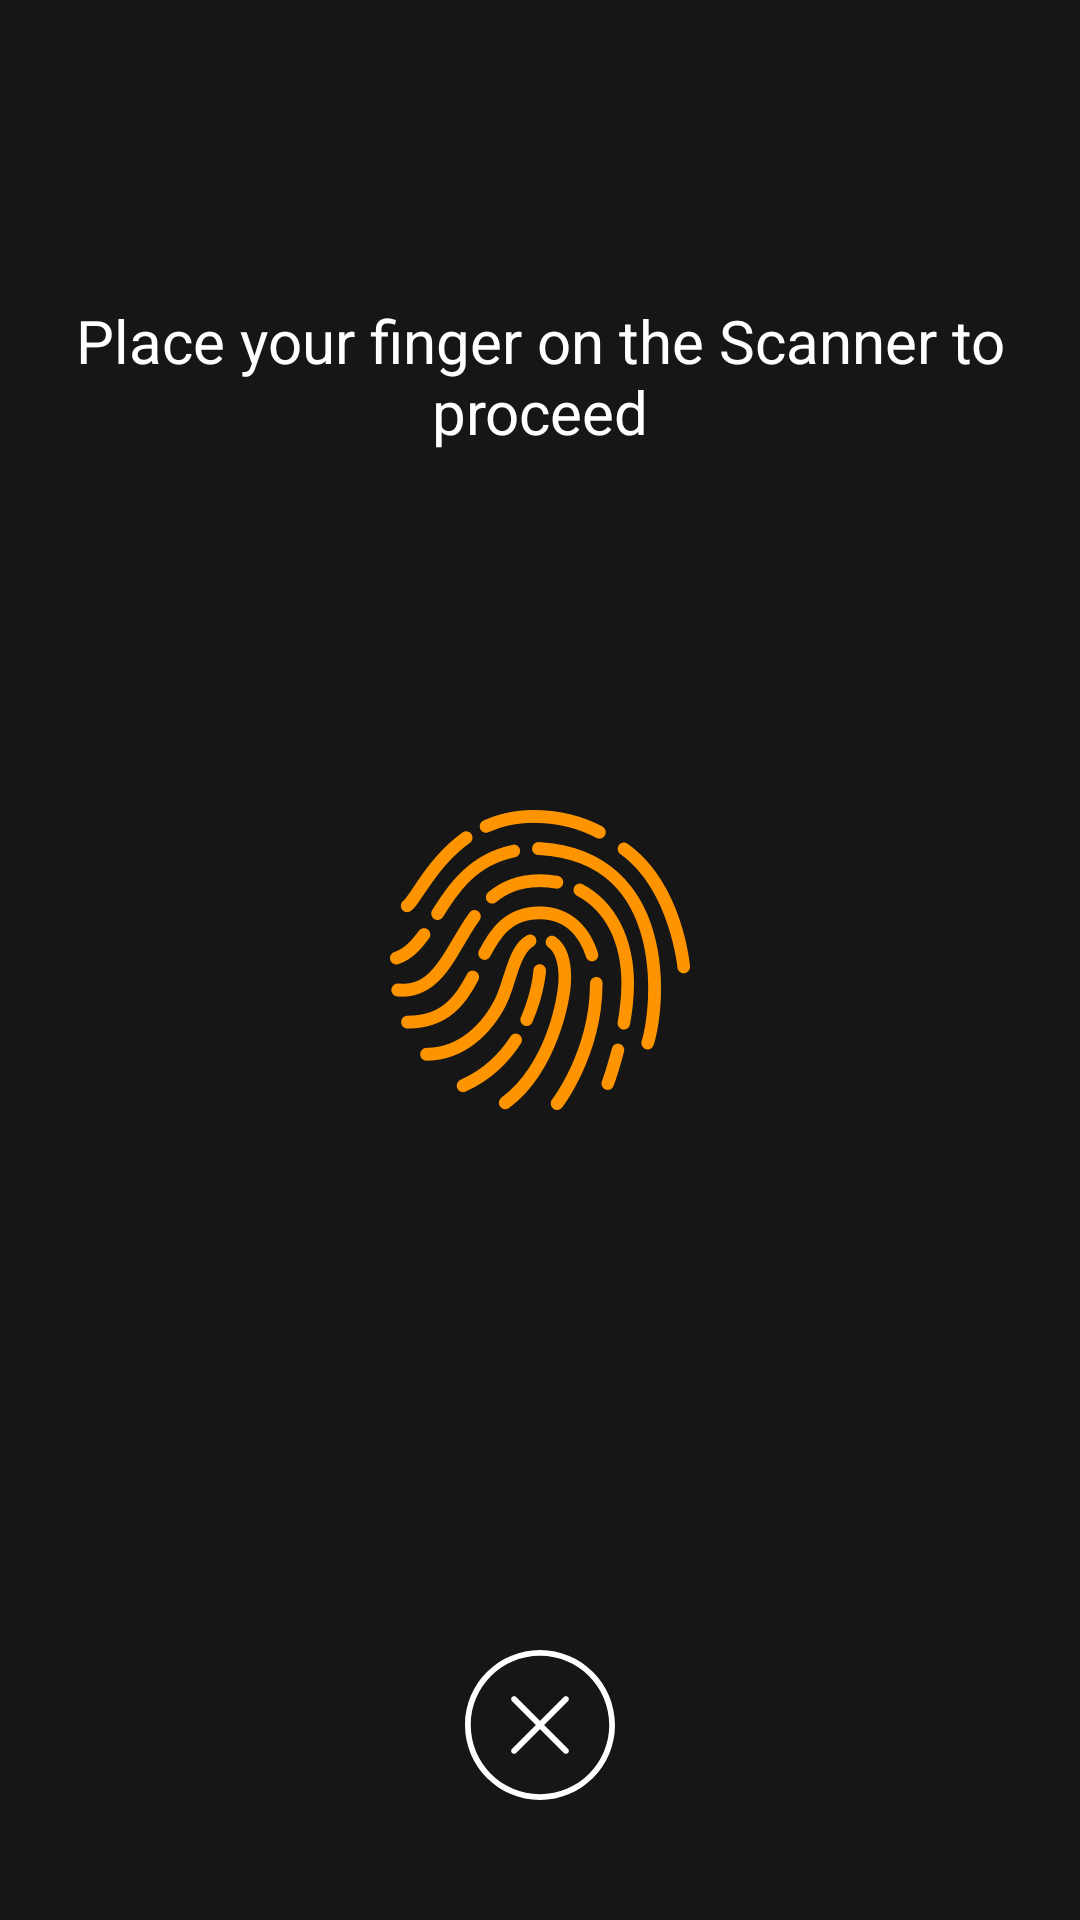

Named icons in this screenshot (1080 x 1920) and their bounding boxes, (x1,y1,x2,y2):
fingerprint: (390,810,690,1110)
